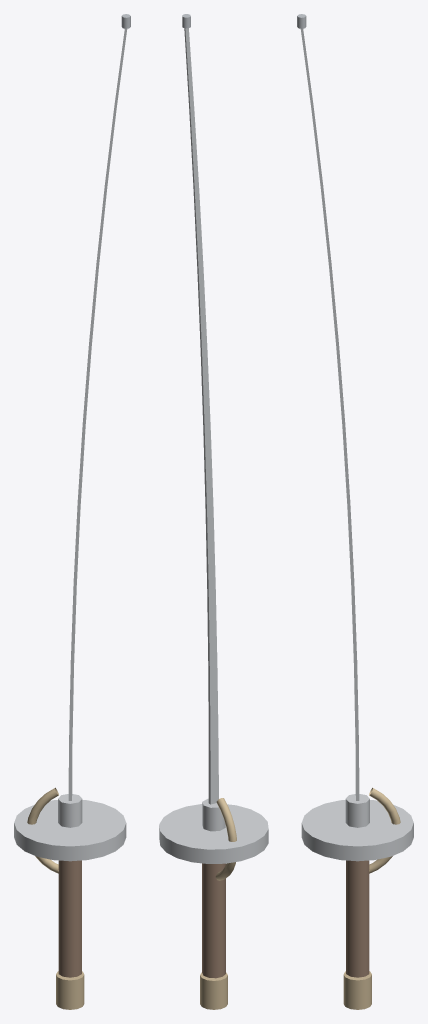
File: sabre.glb
3 renders of one model, left to right at view 1: azimuth 90°, elevation 25°; view 2: azimuth 210°, elevation 25°; view 3: azimuth 270°, elevation 25°, orthographic. The views are drawn at different scales.
Visible parts, largest first — view 1: sabre_steel, sabre_grip, sabre_brass; view 2: sabre_steel, sabre_grip, sabre_brass; view 3: sabre_steel, sabre_grip, sabre_brass.
Boxes of the visible parts, x1,y1,x2,y2 form: sabre_steel: [14, 28, 127, 861]; sabre_grip: [58, 860, 81, 977]; sabre_brass: [27, 787, 84, 1009]; sabre_steel: [159, 28, 268, 863]; sabre_grip: [202, 863, 225, 978]; sabre_brass: [200, 798, 236, 1009]; sabre_steel: [300, 28, 413, 861]; sabre_grip: [346, 860, 369, 977]; sabre_brass: [343, 787, 400, 1009].
Size of the model in its own units: 0.11 by 1.07 by 0.1145.
